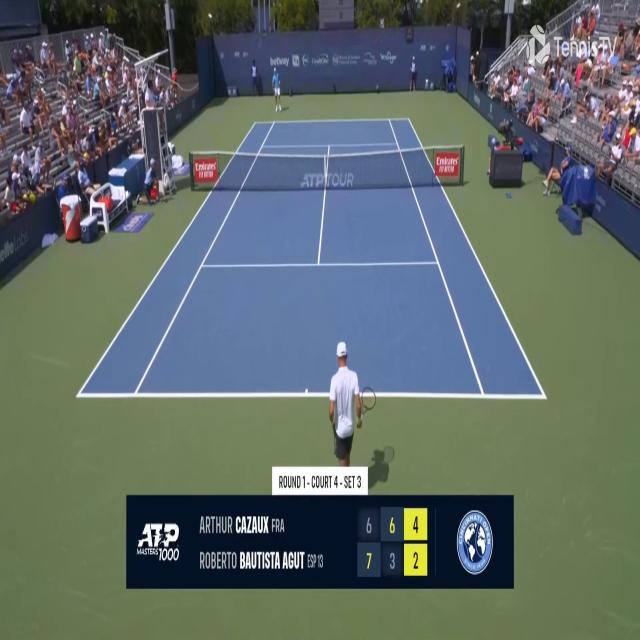tennis-player: (328, 339, 378, 473), (272, 66, 282, 114)
